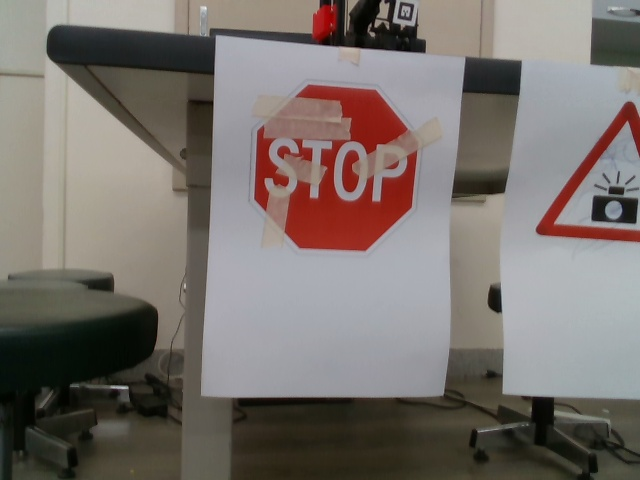camera: (533, 97, 640, 250)
stop: (245, 75, 425, 261)
